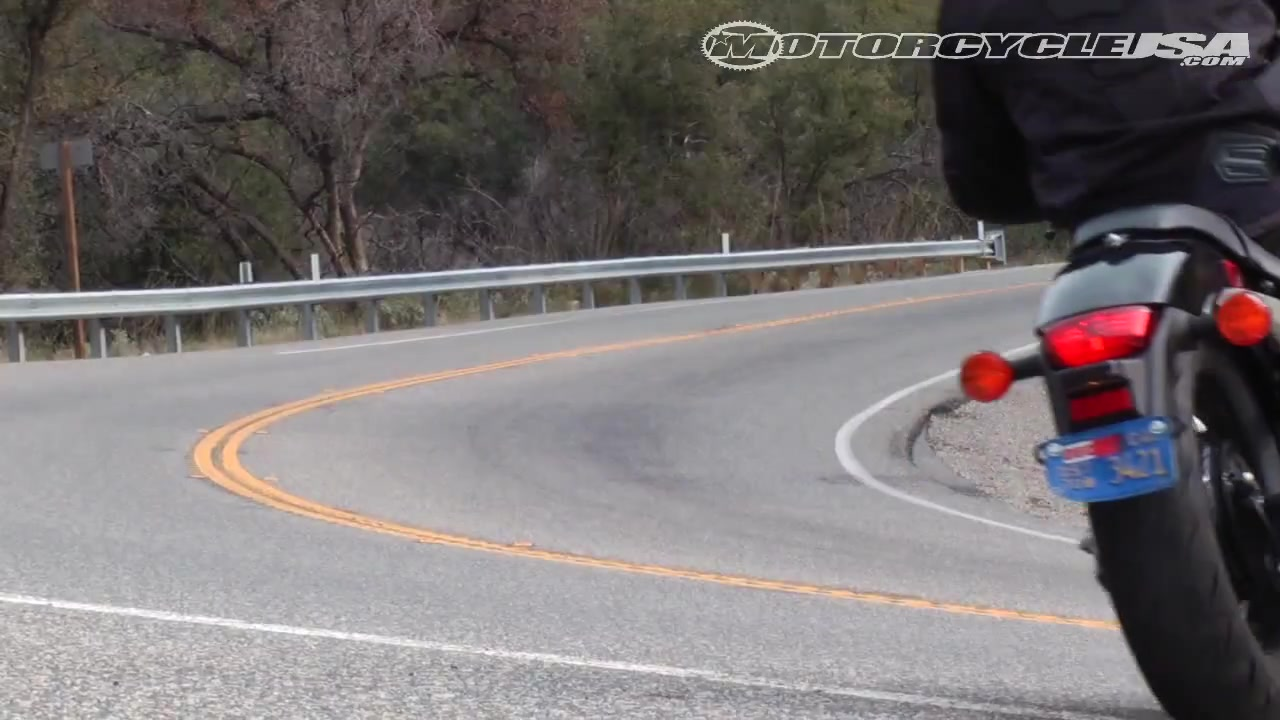motorbike: (952, 170, 1280, 720)
